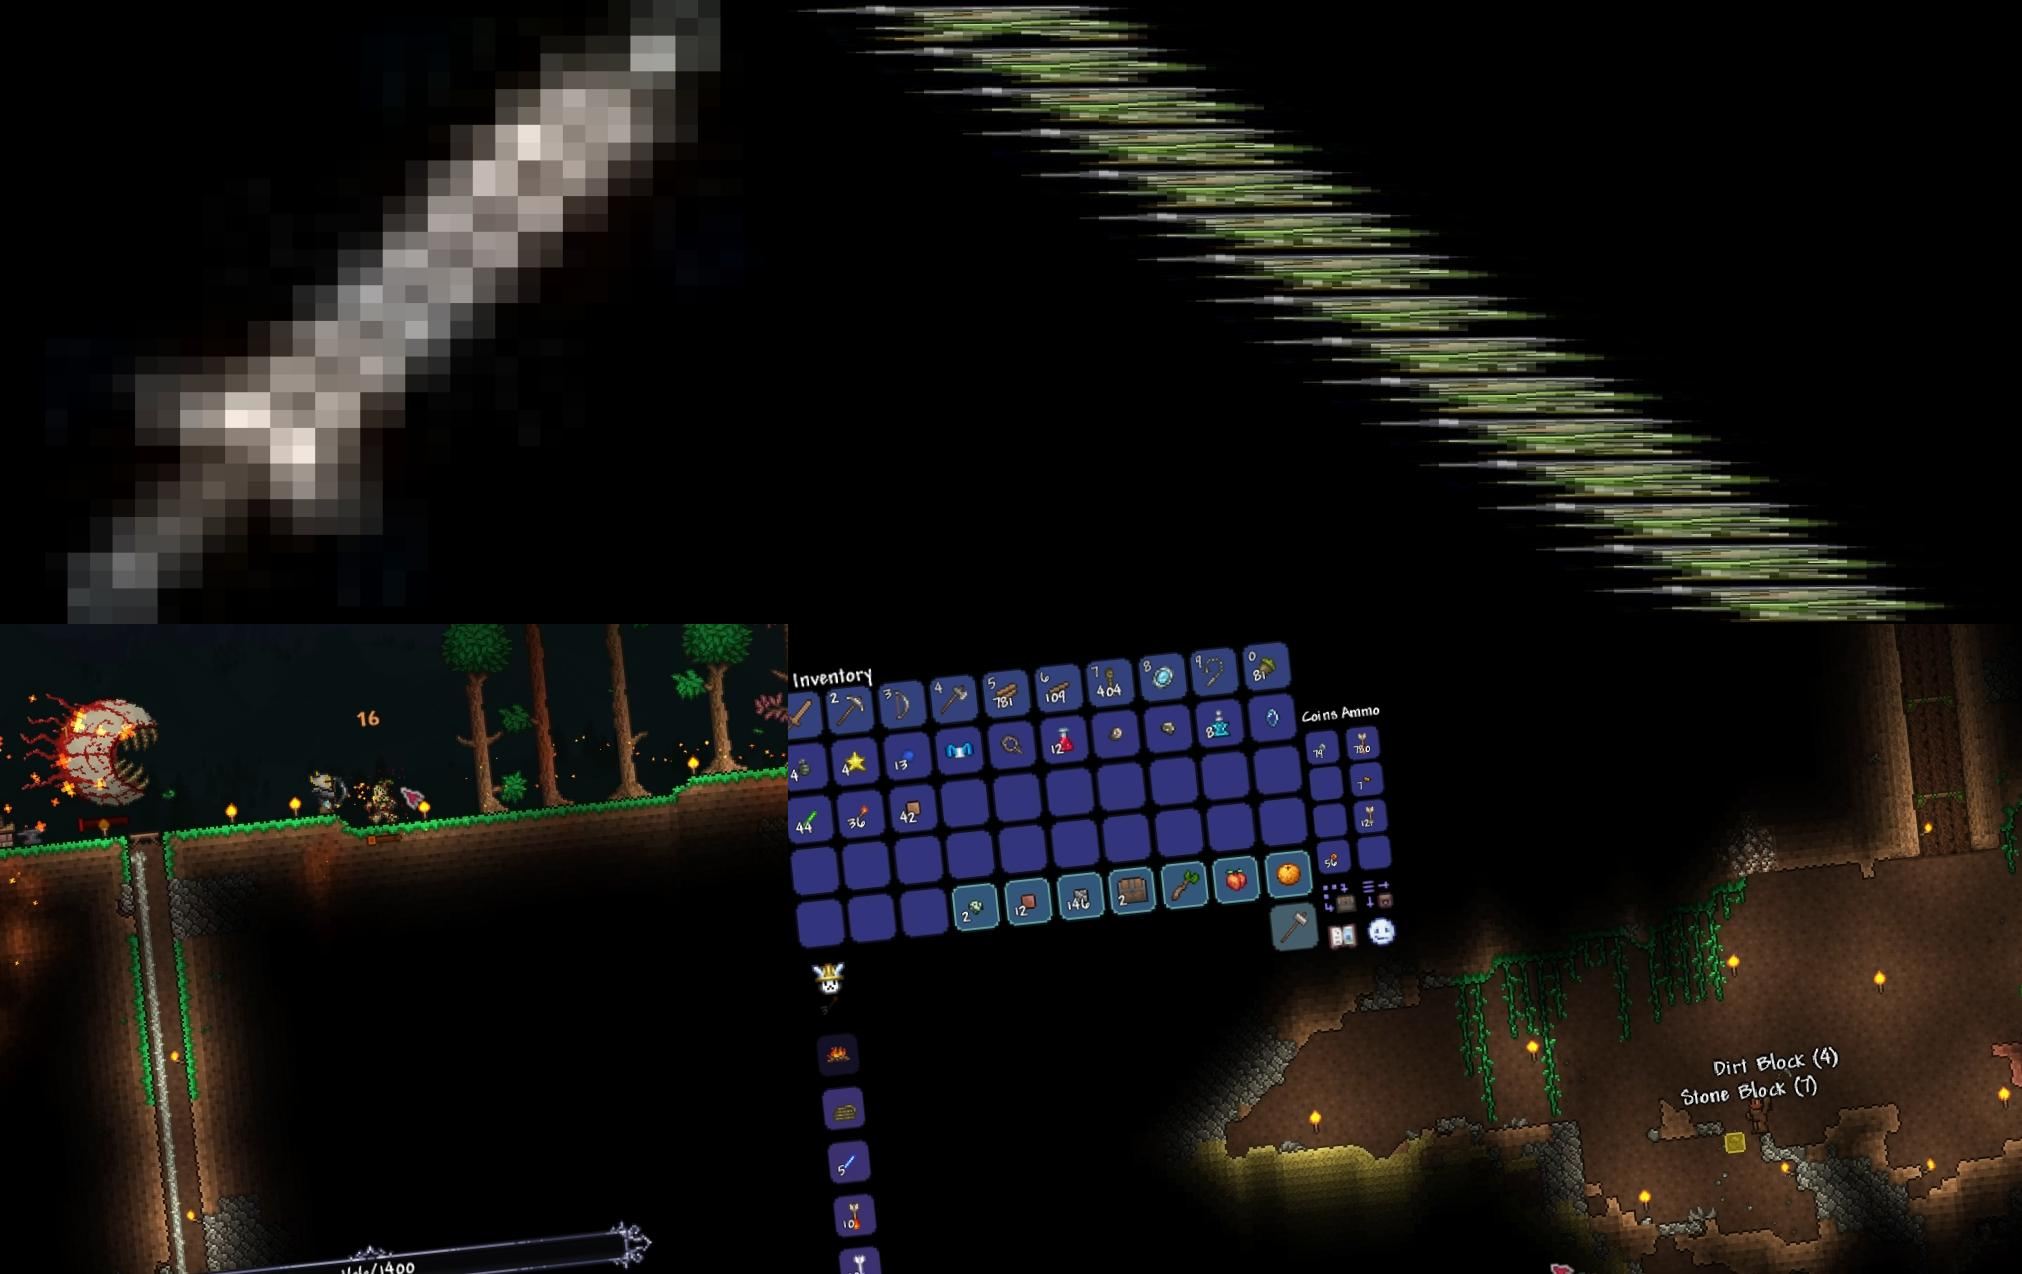eyeC: (3, 674, 175, 816)
potion: (1052, 721, 1080, 756)
sword: (0, 0, 788, 624)
zombie: (803, 4, 1202, 45)
